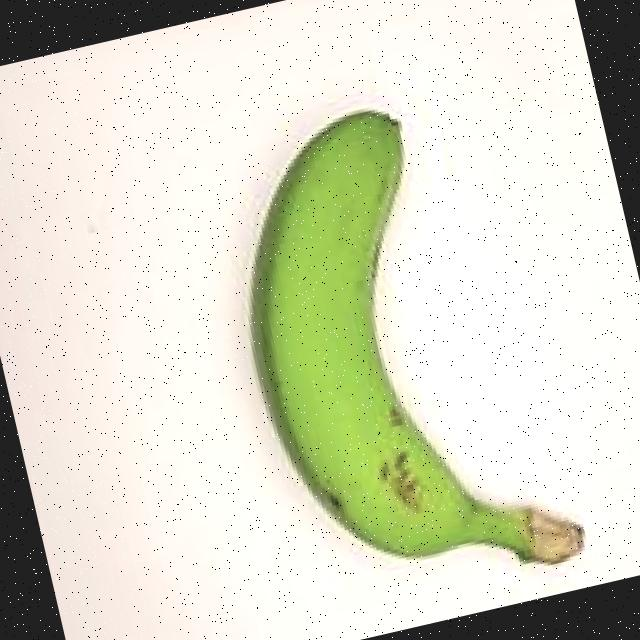Unripe: (189, 63, 601, 640)
